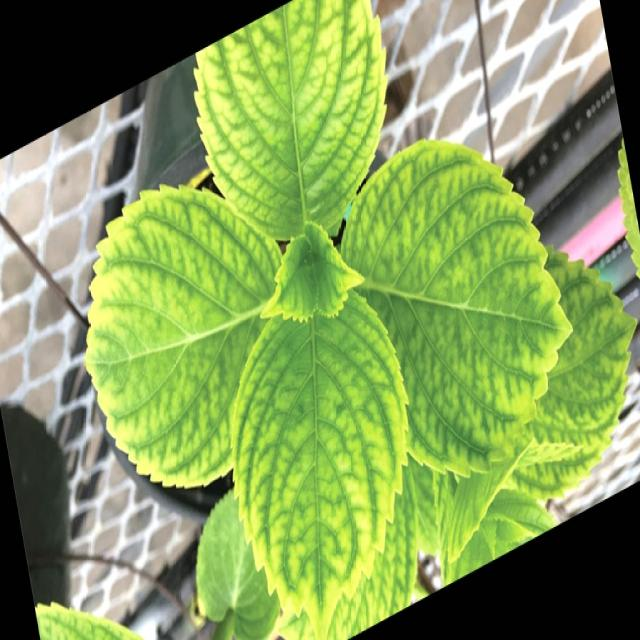Chlorosis: (65, 34, 601, 640)
